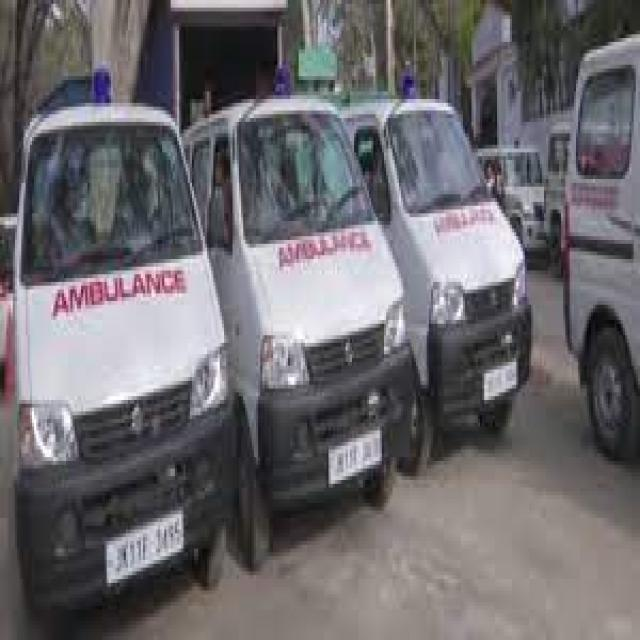ambulance: (22, 91, 231, 608), (245, 80, 410, 586), (349, 80, 541, 488)
